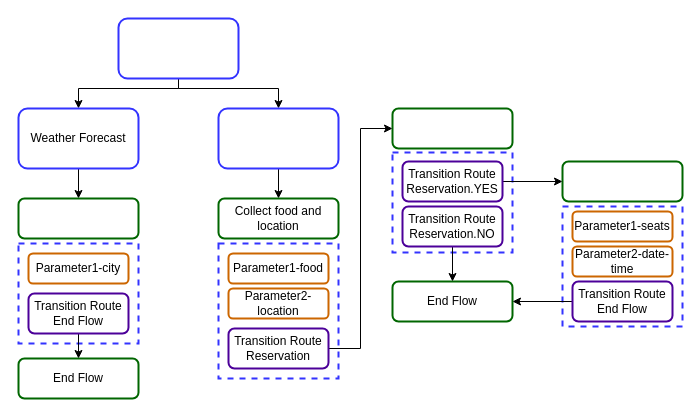
The diagram is 700 pixels wide and 416 high, and some of its shapes have lost their labels. Each missing label, with the centre of its shape:
"Collect city" goes at point (78, 218).
"Collect seats and date-time" goes at point (622, 181).
"Default Start Flow" goes at point (178, 48).
"Reservation" goes at point (452, 128).
"Restaurant Reservation" goes at point (278, 138).
